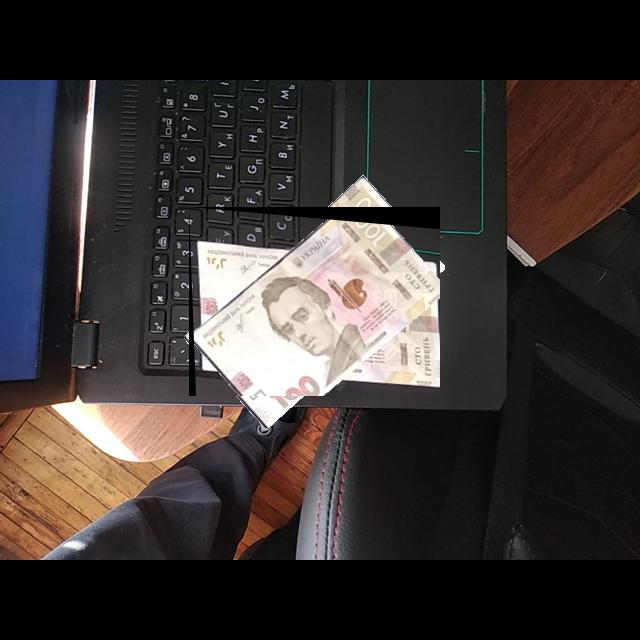100uah: (189, 207, 441, 397)
